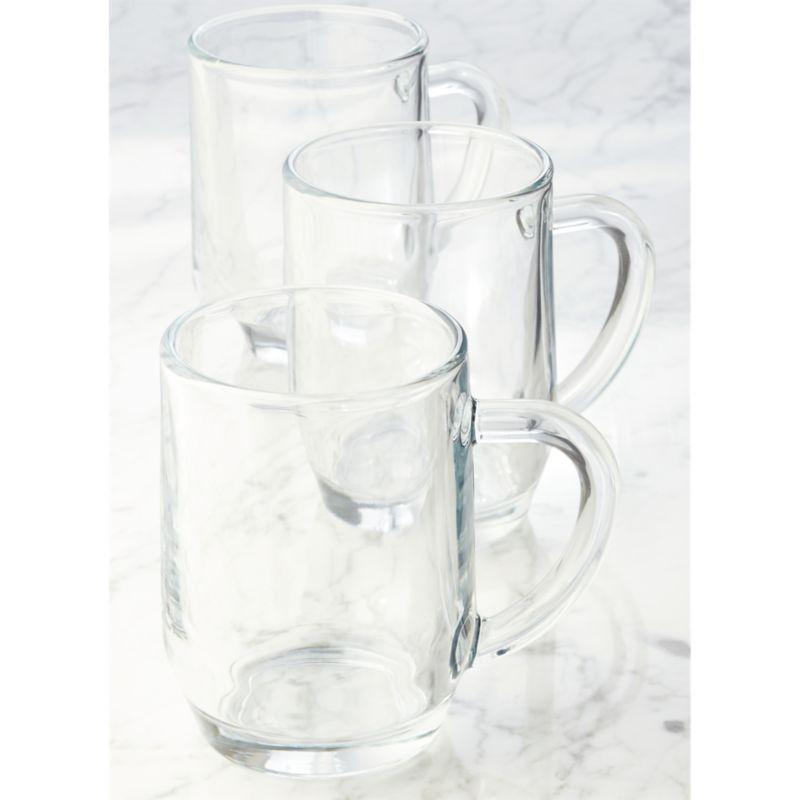glass-mug: (151, 271, 630, 785), (274, 109, 661, 537), (182, 0, 508, 315)
